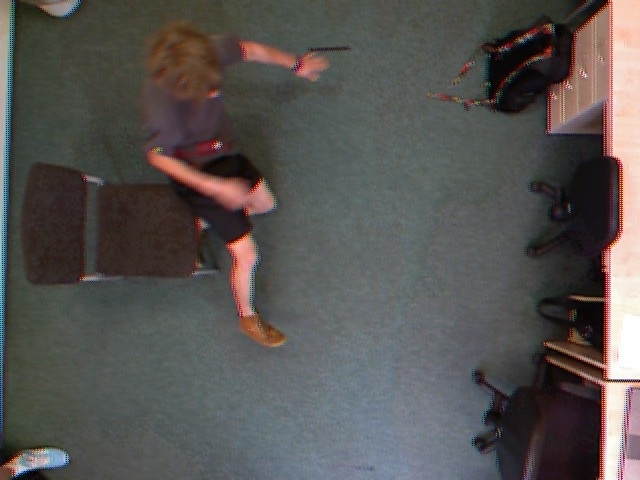fall: (132, 15, 344, 359)
